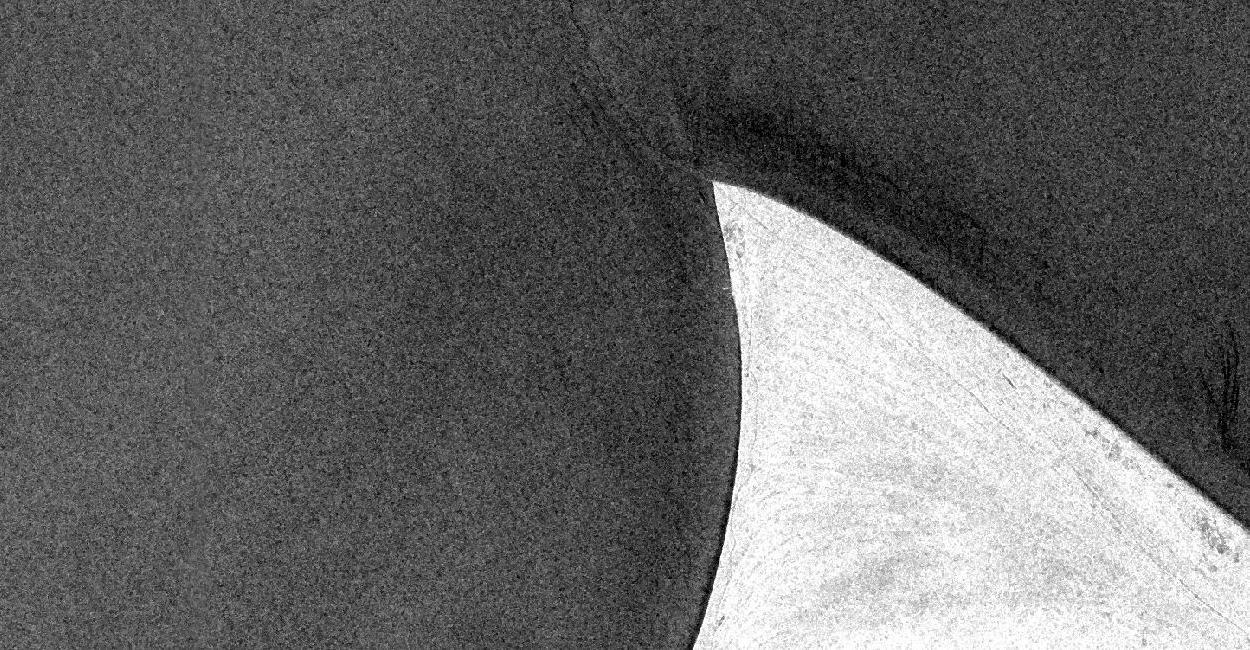Look-alike: (1192, 320, 1246, 456)
